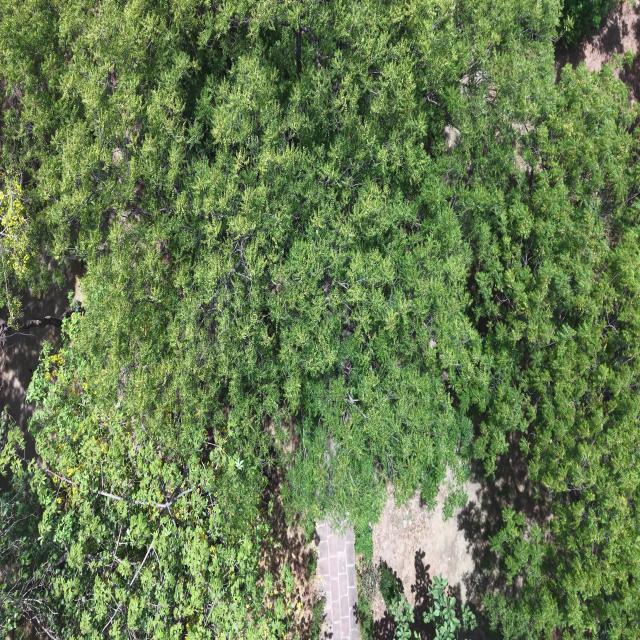DRY_AREA: (372, 433, 547, 624), (373, 432, 548, 609), (372, 434, 547, 607), (372, 446, 545, 607), (260, 469, 358, 639), (456, 431, 549, 609), (260, 471, 358, 639), (0, 263, 80, 458), (0, 263, 79, 458), (261, 489, 358, 639), (372, 489, 474, 611), (0, 265, 74, 428), (372, 489, 473, 607), (0, 272, 72, 431), (259, 467, 317, 639), (556, 0, 639, 100), (0, 306, 59, 431), (581, 0, 639, 70)
PATHWAYS: (316, 522, 357, 639)
VEGETATION_TREE: (0, 0, 639, 637), (1, 1, 556, 523), (0, 331, 301, 639), (481, 68, 639, 637), (0, 427, 301, 639), (356, 561, 476, 639), (378, 563, 475, 639), (422, 574, 475, 639), (558, 0, 610, 44), (356, 558, 378, 639)
